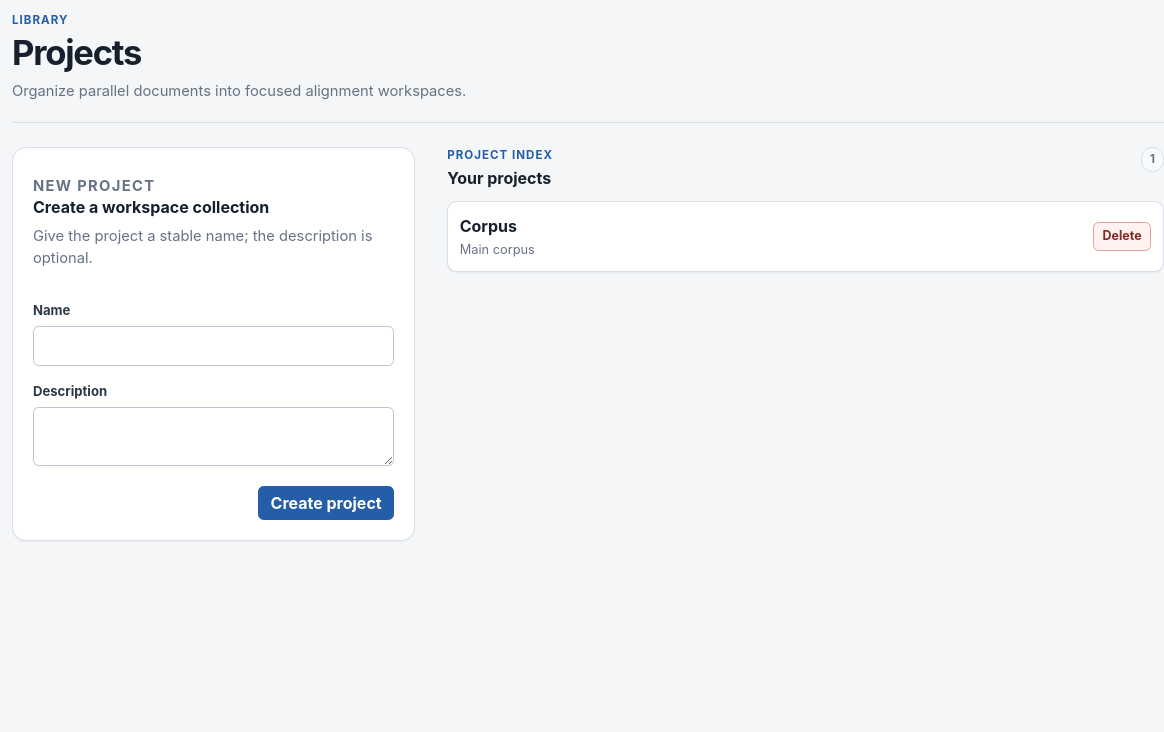
Test: ProjectsPage › deletes a project
Expected: the text "Corpus" is shown, [460,216,517,236]
Click the button with aria-label "Delete project Corpus" at (1122, 237), box [1093,222,1152,251]
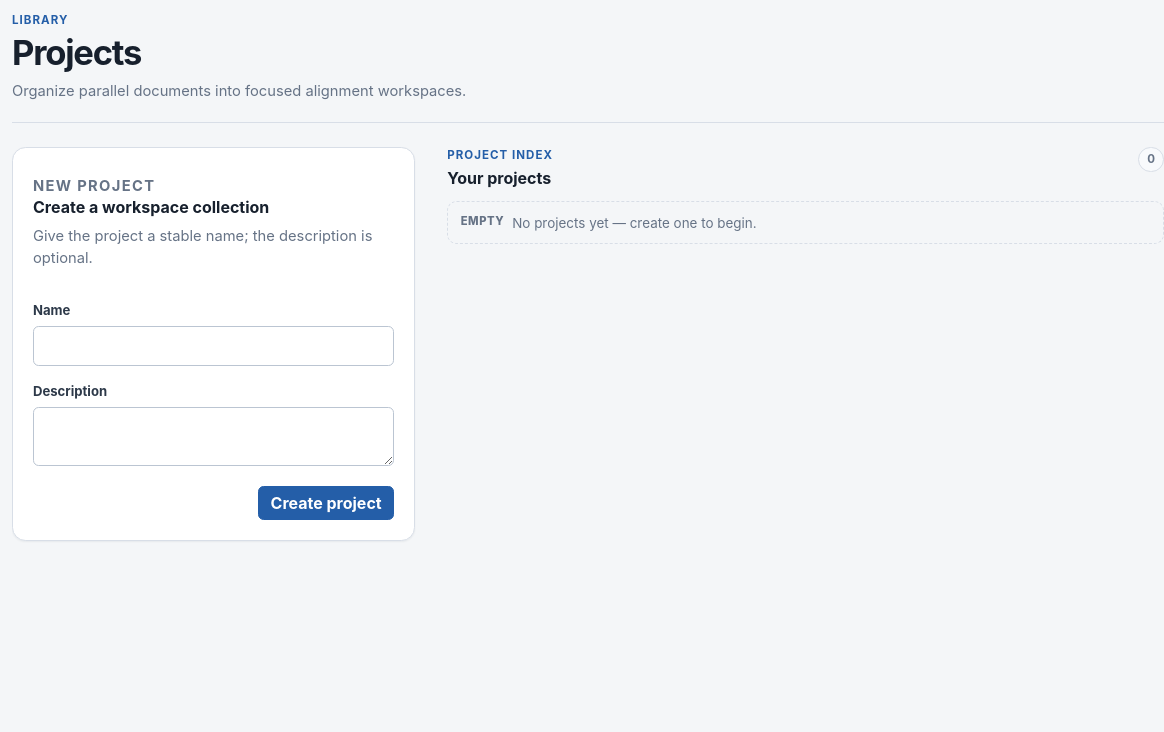
Expected: the text "No projects yet — create one to begin." is shown, [512,213,757,233]
